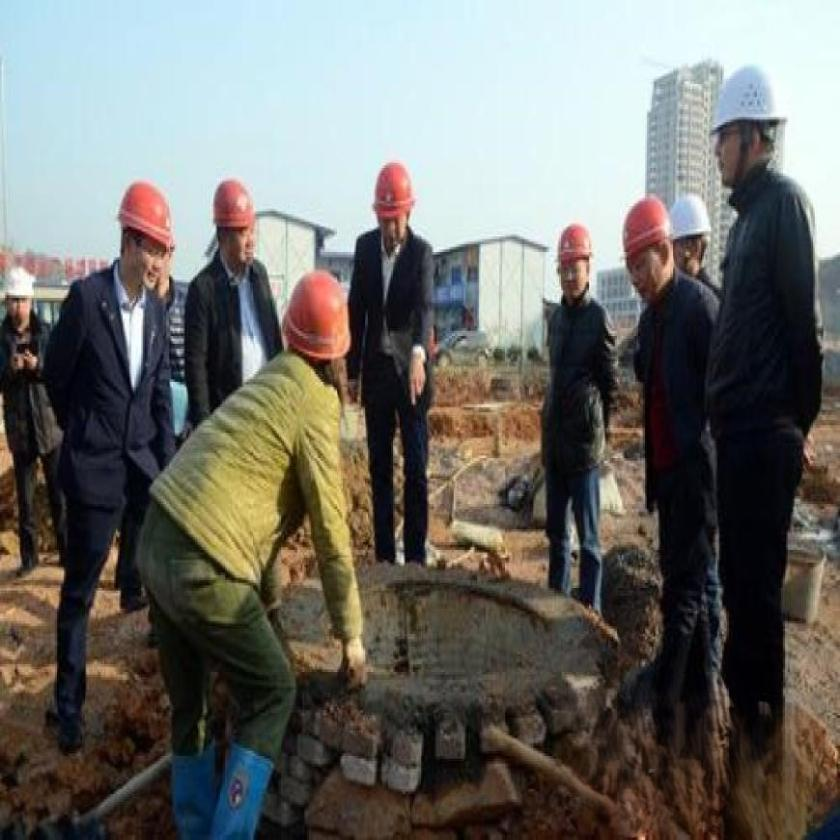Con_casco: (706, 58, 788, 196), (614, 186, 675, 312), (115, 180, 171, 302), (210, 173, 262, 278), (368, 158, 418, 250), (553, 218, 599, 308), (670, 192, 712, 286)
